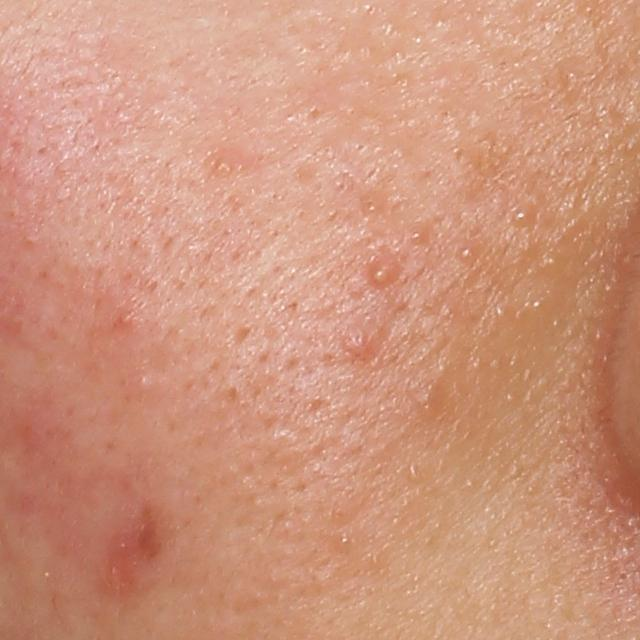comedo: (413, 383, 443, 418), (451, 241, 478, 264), (512, 205, 536, 228), (215, 155, 237, 177), (409, 227, 428, 244), (335, 532, 352, 548), (492, 301, 507, 318), (132, 373, 150, 387)
papule: (335, 323, 388, 368)
pustule: (362, 253, 405, 287)
